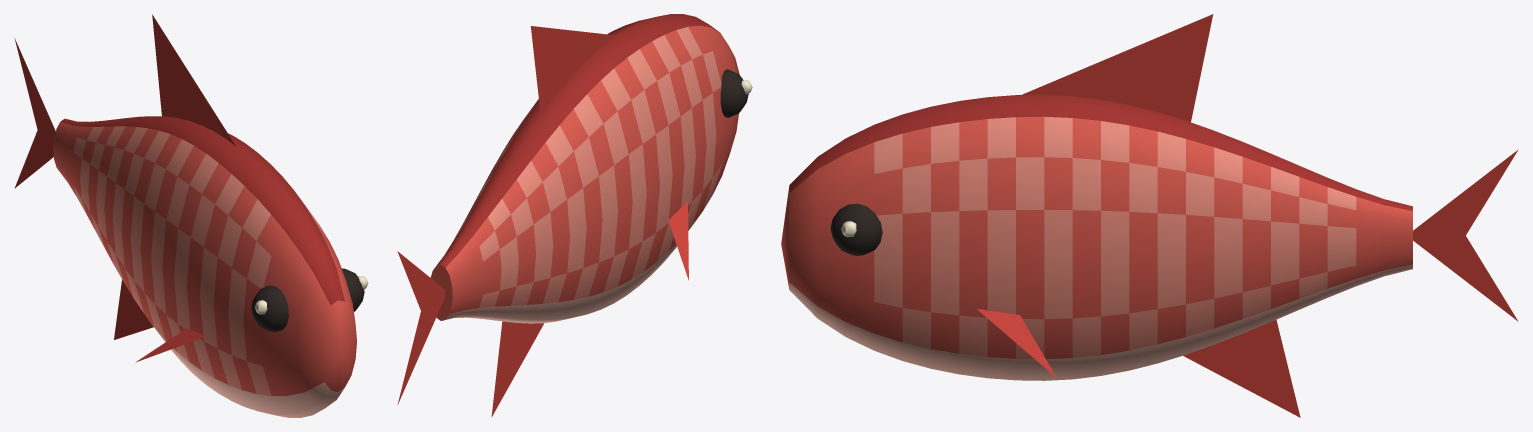
The model's file is red_snapper.fbx.
3 renders of one model, left to right at view 1: azimuth 30°, elevation 25°; view 2: azimuth 150°, elevation 25°; view 3: azimuth 270°, elevation 25°, orthographic. The views are drawn at different scales.
Visible parts, largest first — view 1: Fish_red_snapper_EXP; view 2: Fish_red_snapper_EXP; view 3: Fish_red_snapper_EXP.
Part boxes in pixels (x1=…): Fish_red_snapper_EXP: x1=14, y1=14, x2=368, y2=417; Fish_red_snapper_EXP: x1=397, y1=14, x2=752, y2=416; Fish_red_snapper_EXP: x1=781, y1=14, x2=1518, y2=417.
Bounding box in the file's own units: 0.1815 × 0.3575 × 0.5916.
